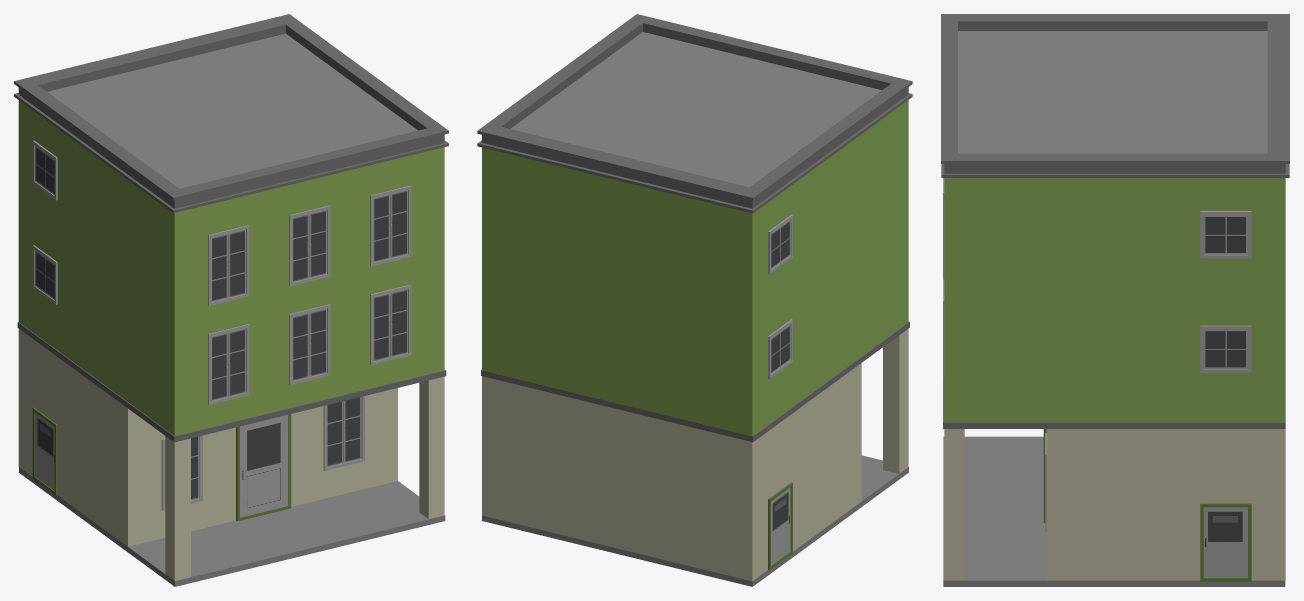
Rendered from spb-shop.glb.
3 renders of one model, left to right at view 1: azimuth 30°, elevation 25°; view 2: azimuth 150°, elevation 25°; view 3: azimuth 270°, elevation 25°, orthographic. The views are drawn at different scales.
Parts seen in each view (by area): view 1: SPB_Shop; view 2: SPB_Shop; view 3: SPB_Shop.
Boxes of the visible parts, x1=… form: SPB_Shop: x1=14, y1=14, x2=448, y2=586; SPB_Shop: x1=477, y1=14, x2=912, y2=586; SPB_Shop: x1=941, y1=14, x2=1289, y2=586.
Size of the model in its own units: 10.19 by 13.82 by 10.22.
1 material, 1 textured.
